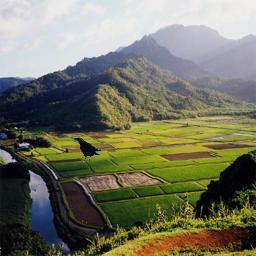Crow: (73, 137, 101, 162)
